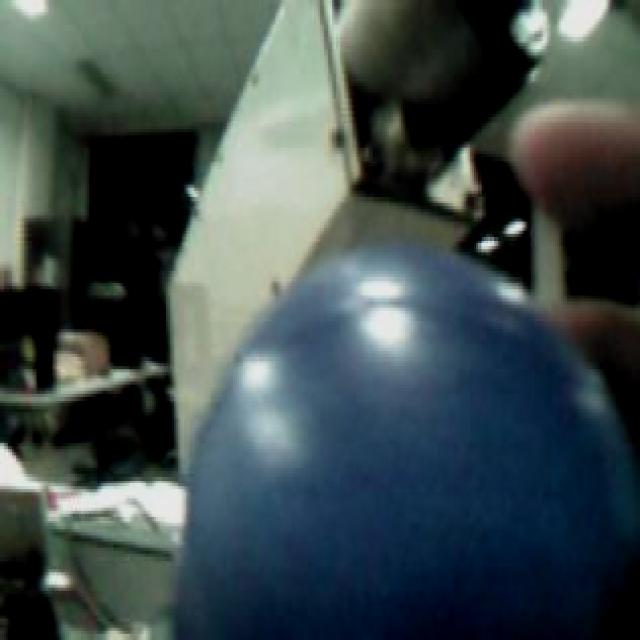BallPurple: (176, 246, 640, 640)
